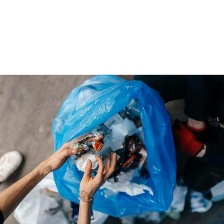plastic_bag: (48, 73, 179, 221)
